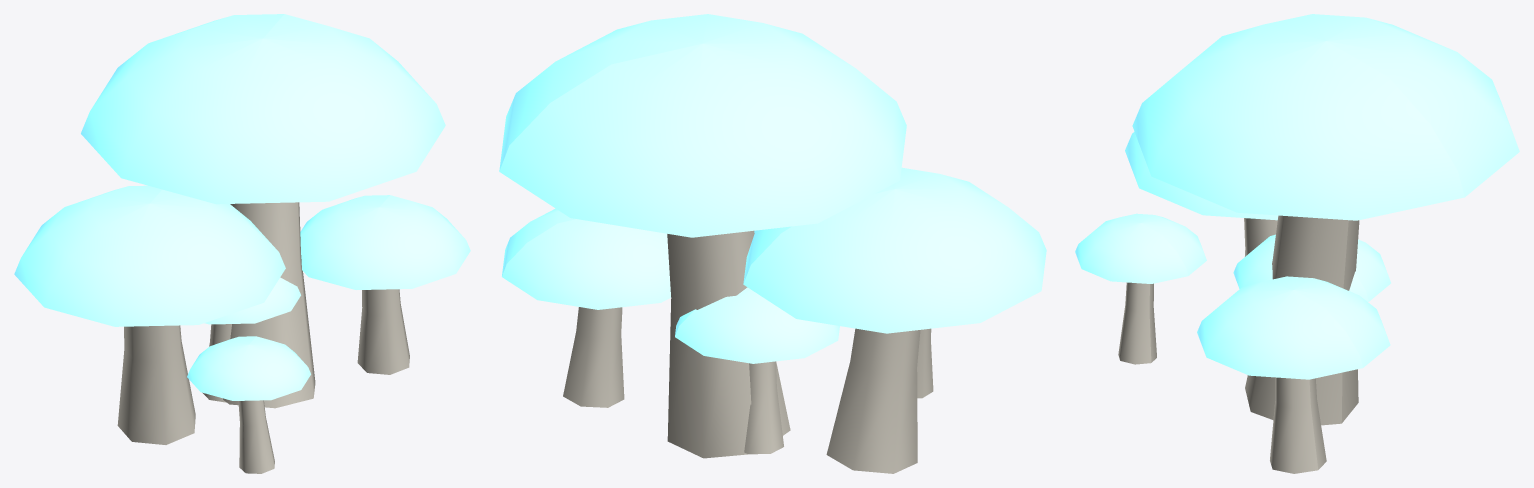
Rendered from mushrooms-glow.glb.
3 views of the same model, side by side, from view 1: azimuth 30°, elevation 25°; view 2: azimuth 150°, elevation 25°; view 3: azimuth 270°, elevation 25° (orthographic). The views are drawn at different scales.
Parts seen in each view (by area): view 1: mushrooms-glow-cap, mushrooms-glow-stem; view 2: mushrooms-glow-cap, mushrooms-glow-stem; view 3: mushrooms-glow-cap, mushrooms-glow-stem.
Boxes of the visible parts, left/top/right/bottom form: mushrooms-glow-cap: left=14, top=14, right=470, bottom=400; mushrooms-glow-stem: left=117, top=202, right=409, bottom=473; mushrooms-glow-cap: left=499, top=14, right=1046, bottom=363; mushrooms-glow-stem: left=563, top=230, right=933, bottom=473; mushrooms-glow-cap: left=1075, top=14, right=1519, bottom=379; mushrooms-glow-stem: left=1118, top=215, right=1359, bottom=473.
Bounding box in the file's own units: 0.4806 × 0.364 × 0.3962.
